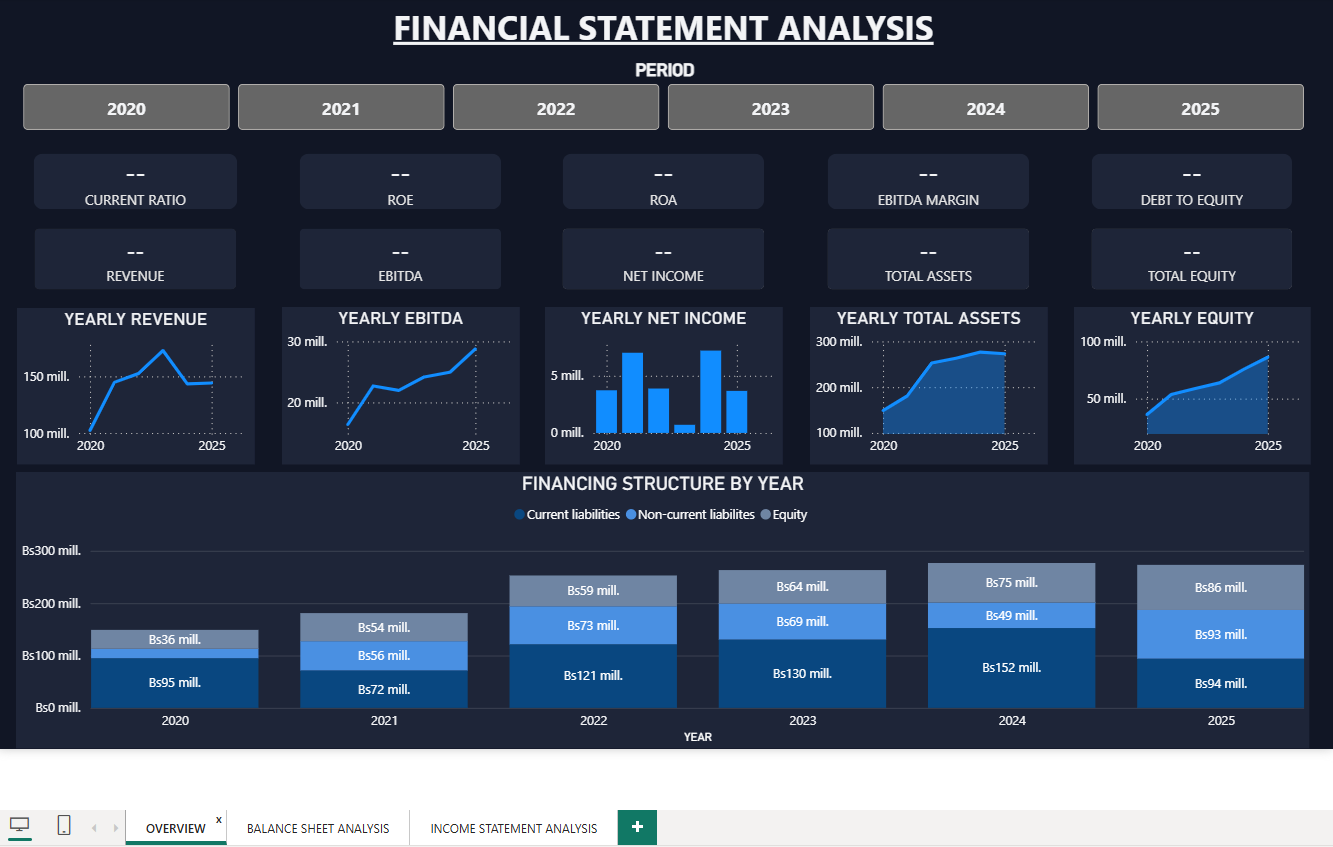

The page's visual inventory and layout, read from the dashboard file:
{"tool":"powerbi","page":{"name":"OVERVIEW","canvas":[1280,720],"ordinal":0},"visuals":[{"type":"cardVisual","fields":{"Data":["MEDIDAS.IngresosOP"]},"box":[17.3,132.3,228.2,81.5],"z":0},{"type":"cardVisual","fields":{"Data":["MEDIDAS.EBITDA"]},"box":[272.3,220.5,228.2,81.5],"z":1000},{"type":"cardVisual","fields":{"Data":["MEDIDAS.Resultado Neto"]},"box":[524.5,220.5,228.2,81.5],"z":2000},{"type":"cardVisual","fields":{"Data":["MEDIDAS.Total Activo"]},"box":[778.5,220.5,228.2,81.5],"z":3000},{"type":"cardVisual","fields":{"Data":["DimCategoria.Operating cash flow"]},"box":[1031.7,220.5,226.3,81.5],"z":4000},{"type":"lineChart","title":"YEARLY REVENUE","fields":{"Category":["DimFecha.Año"],"Y":["MEDIDAS.IngresosOP"]},"box":[17.3,310.7,227.9,149.9],"z":5000},{"type":"lineChart","title":"YEARLY EBITDA","fields":{"Category":["DimFecha.Año"],"Y":["MEDIDAS.EBITDA"]},"box":[272.3,310.7,227.9,150.7],"z":6000},{"type":"clusteredColumnChart","title":"YEARLY NET INCOME","fields":{"Category":["DimFecha.Año"],"Y":["MEDIDAS.Resultado Neto"]},"box":[524.5,310.7,227.9,150.7],"z":7000},{"type":"areaChart","title":"YEARLY TOTAL ASSETS","fields":{"Category":["DimFecha.Año"],"Y":["MEDIDAS.Total Activo"]},"box":[778.5,309.7,227.9,150.7],"z":8000},{"type":"clusteredColumnChart","title":"YEARLY OCF","fields":{"Category":["DimFecha.Año"],"Y":["DimCategoria.Operating cash flow"]},"box":[1031.7,310.7,227,150.7],"z":9000},{"type":"columnChart","title":"FINANCING STRUCTURE BY YEAR","fields":{"Category":["DimFecha.Año"],"Y":["MEDIDAS.Current liabilities","MEDIDAS.Non-current liabilites","MEDIDAS.Equity"]},"box":[17.3,467.9,1240.7,252.2],"z":10000},{"type":"textbox","box":[0,0,532,58.5],"z":11000},{"type":"cardVisual","fields":{"Data":["MEDIDAS.Razón corriente"]},"box":[778.5,132.3,228.2,81.5],"z":12000},{"type":"cardVisual","fields":{"Data":["MEDIDAS.ROE"]},"box":[17.3,220.5,228.2,81.5],"z":13000},{"type":"cardVisual","fields":{"Data":["MEDIDAS.ROA"]},"box":[524.5,132.3,228.2,81.5],"z":14000},{"type":"cardVisual","fields":{"Data":["MEDIDAS.Margen EBITDA"]},"box":[272.3,132.3,228.2,81.5],"z":15000},{"type":"cardVisual","fields":{"Data":["MEDIDAS.Apalancamiento"]},"box":[1031.7,132.3,226.3,81.5],"z":16000},{"type":"advancedSlicerVisual","title":"PERIOD","fields":{"Values":["DimFecha.Año"]},"box":[0,58.8,1280,73.5],"z":17000},{"type":"pageNavigator","box":[711.4,4.8,560.9,49.9],"z":18000}]}

Visuals, with their boxes on the page's 1280x720 design canvas (x1, y1, x2, y2). These are canvas units, not pixel positions in the 1333x847 screenshot, which may show the page scaled, cropped or inside an application window:
cardVisual - MEDIDAS.IngresosOP: box(17, 132, 246, 214)
cardVisual - MEDIDAS.EBITDA: box(272, 220, 500, 302)
cardVisual - MEDIDAS.Resultado Neto: box(524, 220, 753, 302)
cardVisual - MEDIDAS.Total Activo: box(778, 220, 1007, 302)
cardVisual - DimCategoria.Operating cash flow: box(1032, 220, 1258, 302)
"YEARLY REVENUE" lineChart: box(17, 311, 245, 461)
"YEARLY EBITDA" lineChart: box(272, 311, 500, 461)
"YEARLY NET INCOME" clusteredColumnChart: box(524, 311, 752, 461)
"YEARLY TOTAL ASSETS" areaChart: box(778, 310, 1006, 460)
"YEARLY OCF" clusteredColumnChart: box(1032, 311, 1259, 461)
"FINANCING STRUCTURE BY YEAR" columnChart: box(17, 468, 1258, 720)
textbox: box(0, 0, 532, 58)
cardVisual - MEDIDAS.Razón corriente: box(778, 132, 1007, 214)
cardVisual - MEDIDAS.ROE: box(17, 220, 246, 302)
cardVisual - MEDIDAS.ROA: box(524, 132, 753, 214)
cardVisual - MEDIDAS.Margen EBITDA: box(272, 132, 500, 214)
cardVisual - MEDIDAS.Apalancamiento: box(1032, 132, 1258, 214)
"PERIOD" advancedSlicerVisual: box(0, 59, 1280, 132)
pageNavigator: box(711, 5, 1272, 55)
